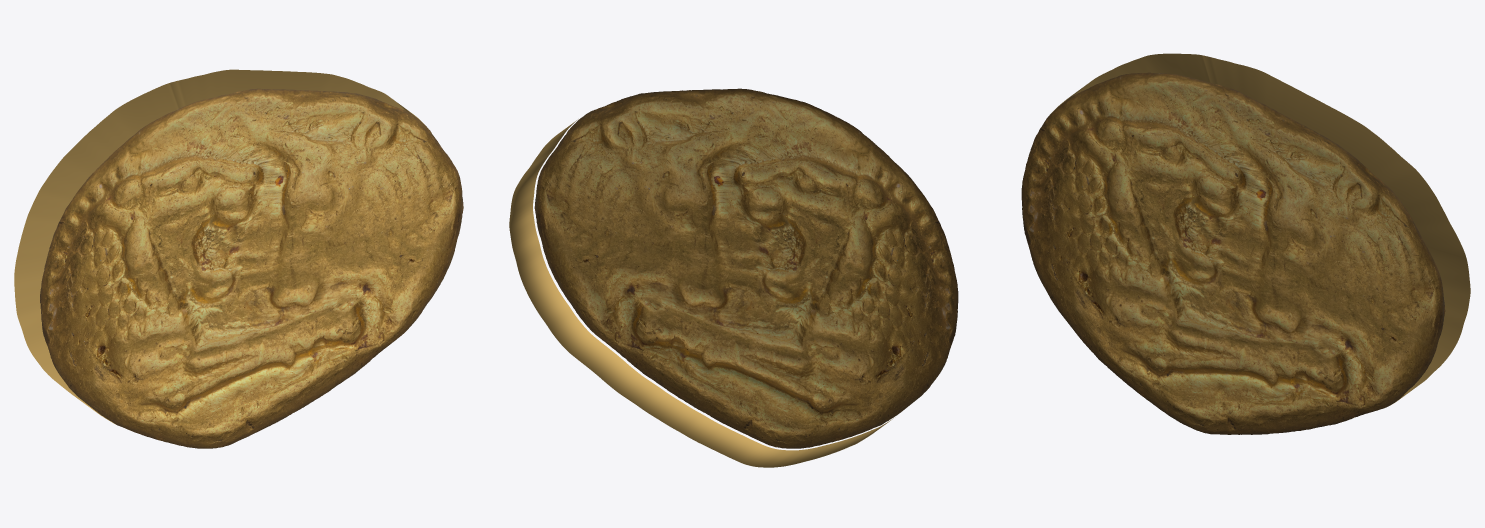
File: stater.glb
3 renders of one model, left to right at view 1: azimuth 30°, elevation 25°; view 2: azimuth 150°, elevation 25°; view 3: azimuth 330°, elevation 25°, orthographic.
Visible parts, largest first — view 1: stater · obverse relief, stater · body and unmeasured reverse; view 2: stater · obverse relief, stater · body and unmeasured reverse; view 3: stater · obverse relief, stater · body and unmeasured reverse.
Boxes of the visible parts, x1,y1,x2,y2 form: stater · obverse relief: (40, 88, 463, 448); stater · body and unmeasured reverse: (14, 69, 425, 424); stater · obverse relief: (534, 88, 958, 448); stater · body and unmeasured reverse: (509, 120, 893, 467); stater · obverse relief: (1021, 72, 1445, 434); stater · body and unmeasured reverse: (1048, 53, 1470, 404).
Size of the model in its own units: 2.6 by 2.11 by 0.2588.
2 materials, 1 textured.
